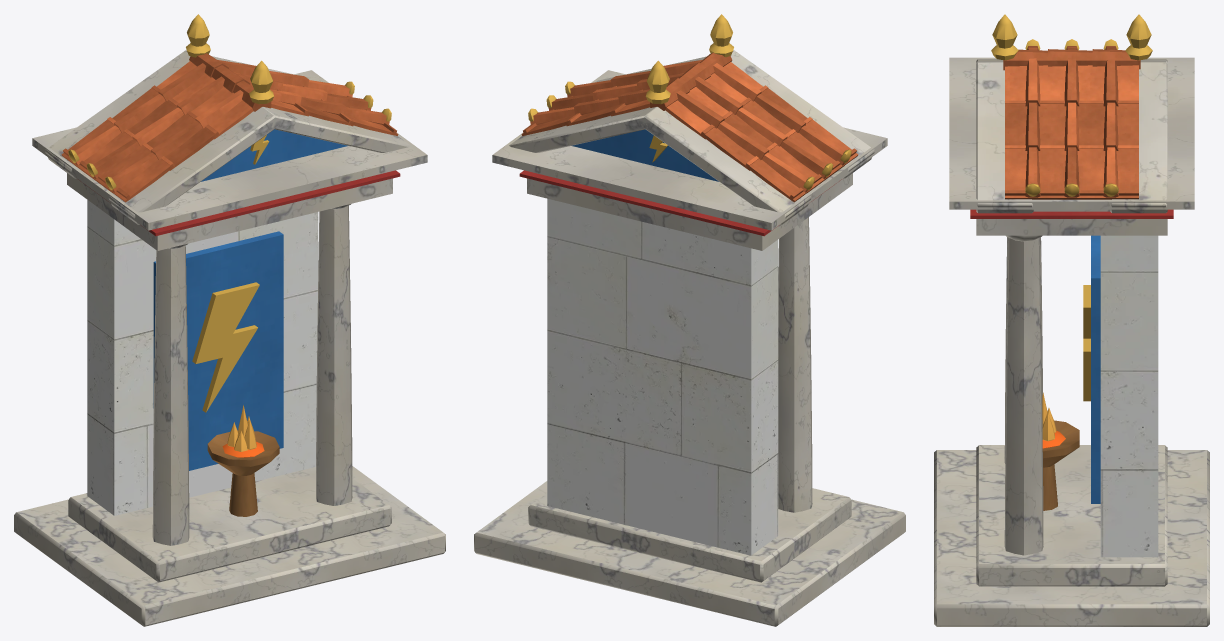
File: decor_shrine.glb
The picture shows the model from 3 angles, left to right: view 1: azimuth 30°, elevation 25°; view 2: azimuth 150°, elevation 25°; view 3: azimuth 270°, elevation 25°; orthographic projection. The views are drawn at different scales.
Parts seen in each view (by area): view 1: marble, step, hall, paint_azure, terracotta1, gold, terracotta0, terracotta2, bronze, paint_red, flame.005; view 2: hall, marble, step, terracotta1, terracotta0, terracotta2, paint_azure, gold, paint_red; view 3: step, marble, hall, terracotta1, terracotta0, terracotta2, gold, paint_azure, bronze, paint_red, flame.005.
Boxes of the visible parts, x1=… form: marble: x1=32, y1=50, x2=427, y2=545; step: x1=14, y1=466, x2=445, y2=626; hall: x1=87, y1=200, x2=318, y2=515; paint_azure: x1=153, y1=129, x2=348, y2=470; terracotta1: x1=63, y1=53, x2=396, y2=200; gold: x1=68, y1=14, x2=391, y2=412; terracotta0: x1=61, y1=71, x2=398, y2=202; terracotta2: x1=70, y1=61, x2=352, y2=167; bronze: x1=207, y1=430, x2=279, y2=516; paint_red: x1=78, y1=170, x2=400, y2=236; flame.005: x1=227, y1=405, x2=256, y2=451; hall: x1=547, y1=198, x2=778, y2=555; marble: x1=492, y1=50, x2=887, y2=512; step: x1=474, y1=481, x2=905, y2=626; terracotta1: x1=523, y1=52, x2=856, y2=200; terracotta0: x1=521, y1=73, x2=858, y2=202; terracotta2: x1=530, y1=60, x2=812, y2=192; paint_azure: x1=571, y1=129, x2=718, y2=181; gold: x1=528, y1=14, x2=851, y2=190; paint_red: x1=519, y1=170, x2=841, y2=236; step: x1=934, y1=445, x2=1209, y2=626; marble: x1=949, y1=57, x2=1194, y2=555; hall: x1=1100, y1=235, x2=1158, y2=557; terracotta1: x1=1003, y1=46, x2=1140, y2=197; terracotta0: x1=1005, y1=46, x2=1138, y2=199; terracotta2: x1=1005, y1=46, x2=1138, y2=197; gold: x1=991, y1=14, x2=1152, y2=401; paint_azure: x1=1091, y1=235, x2=1100, y2=503; bronze: x1=1042, y1=420, x2=1079, y2=510; paint_red: x1=970, y1=209, x2=1173, y2=218; flame.005: x1=1042, y1=392, x2=1056, y2=441.
Size of the model in its own units: 1.94 by 3.09 by 1.44.
Materials: 12 (9 with a texture image).
